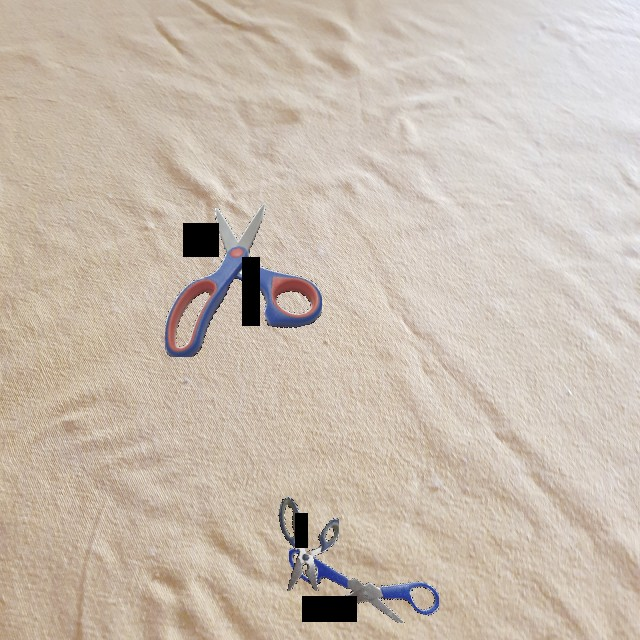scissors: (165, 203, 322, 357), (289, 547, 439, 623), (278, 497, 339, 591)
